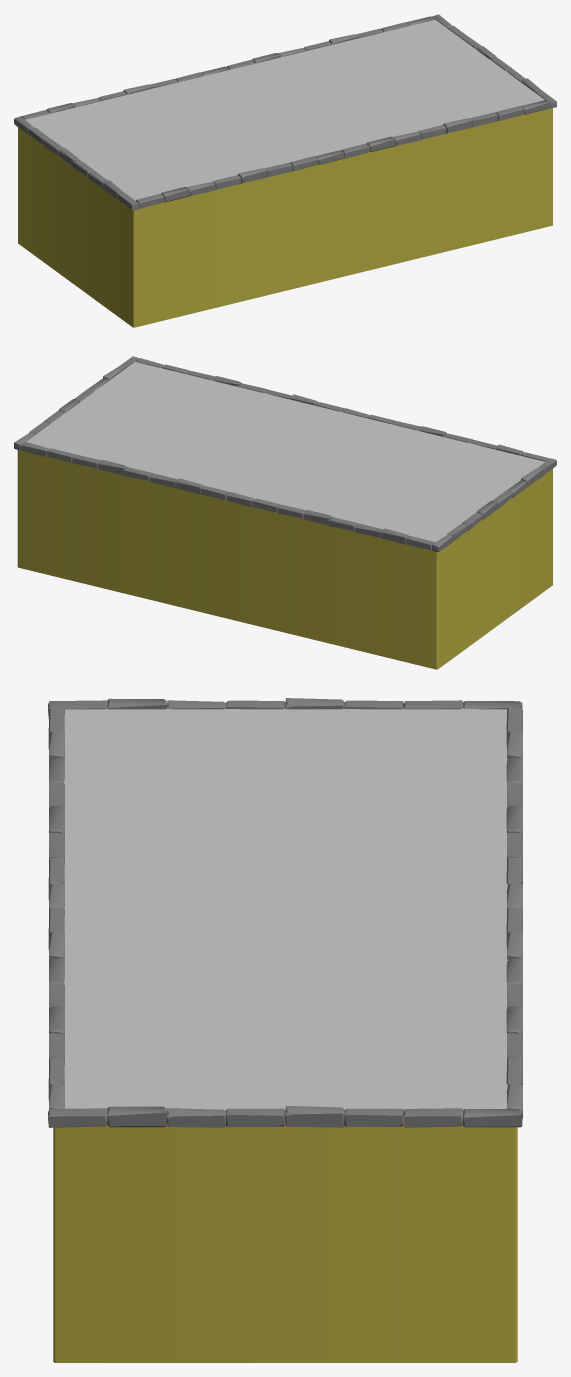
The model's file is SM_platform_01.fbx.
3 views of the same model, one above another, from view 1: azimuth 30°, elevation 25°; view 2: azimuth 150°, elevation 25°; view 3: azimuth 270°, elevation 25° (orthographic). The views are drawn at different scales.
Parts seen in each view (by area): view 1: Plane005; view 2: Plane005; view 3: Plane005.
Boxes of the visible parts, left/top/right/bottom form: Plane005: left=14, top=14, right=556, bottom=327; Plane005: left=14, top=356, right=556, bottom=669; Plane005: left=48, top=698, right=522, bottom=1362.
Bounding box in the file's own units: 531 × 151 × 257.
